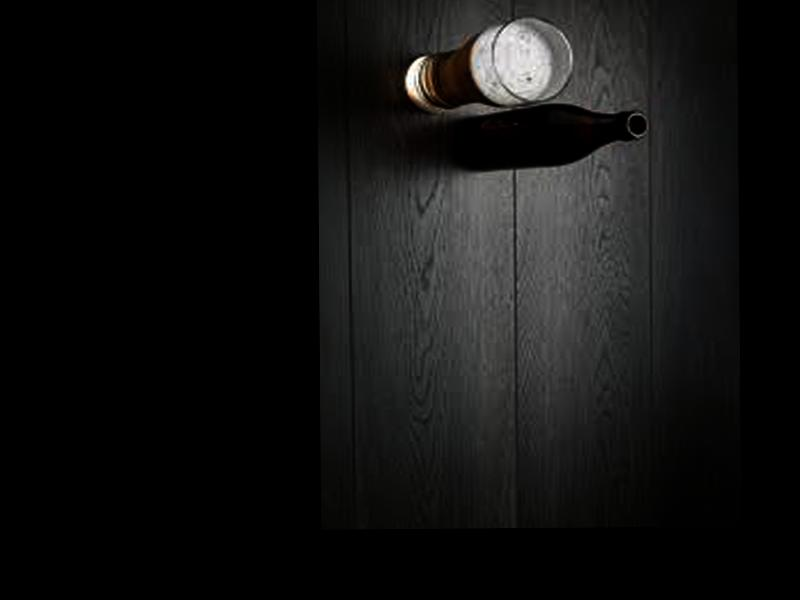Beer: (448, 101, 650, 172)
